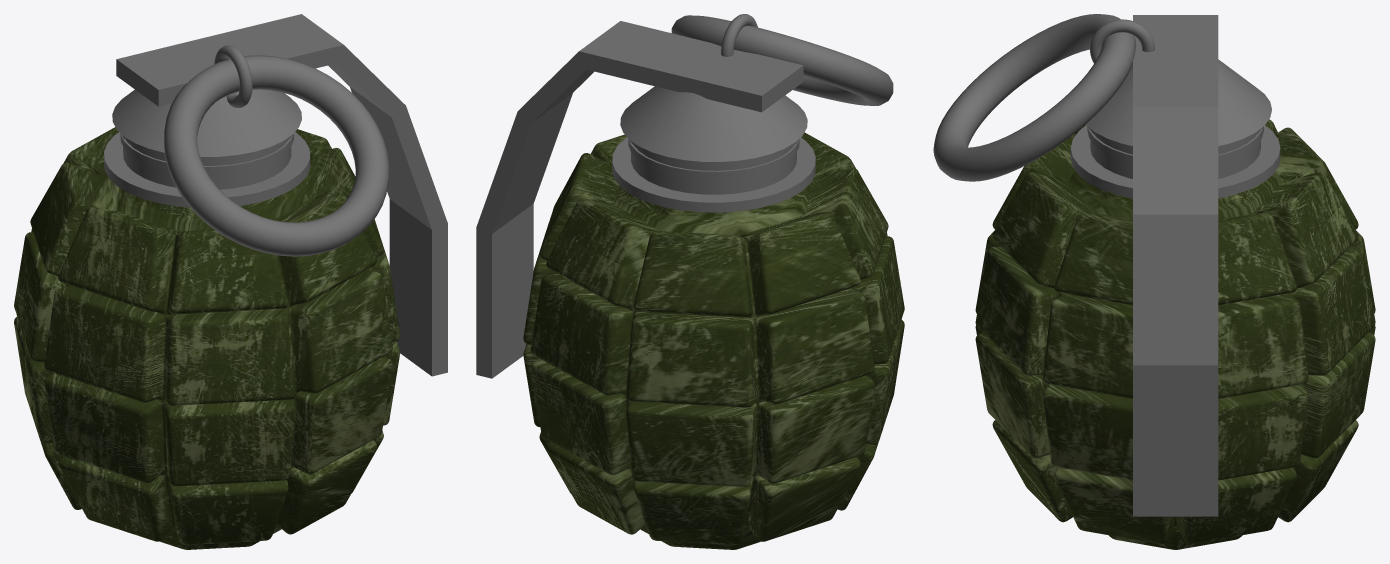
File: granada.glb
The picture shows the model from 3 angles, left to right: view 1: azimuth 30°, elevation 25°; view 2: azimuth 150°, elevation 25°; view 3: azimuth 270°, elevation 25°; orthographic projection. The views are drawn at different scales.
Visible parts, largest first — view 1: Granada; view 2: Granada; view 3: Granada.
Part boxes in pixels (x1,y1,x2,y2): Granada: (14, 14, 447, 549); Granada: (476, 14, 904, 549); Granada: (933, 14, 1375, 549).
Bounding box in the file's own units: 0.1084 × 0.13 × 0.1052.
Materials: 2 (1 with a texture image).
